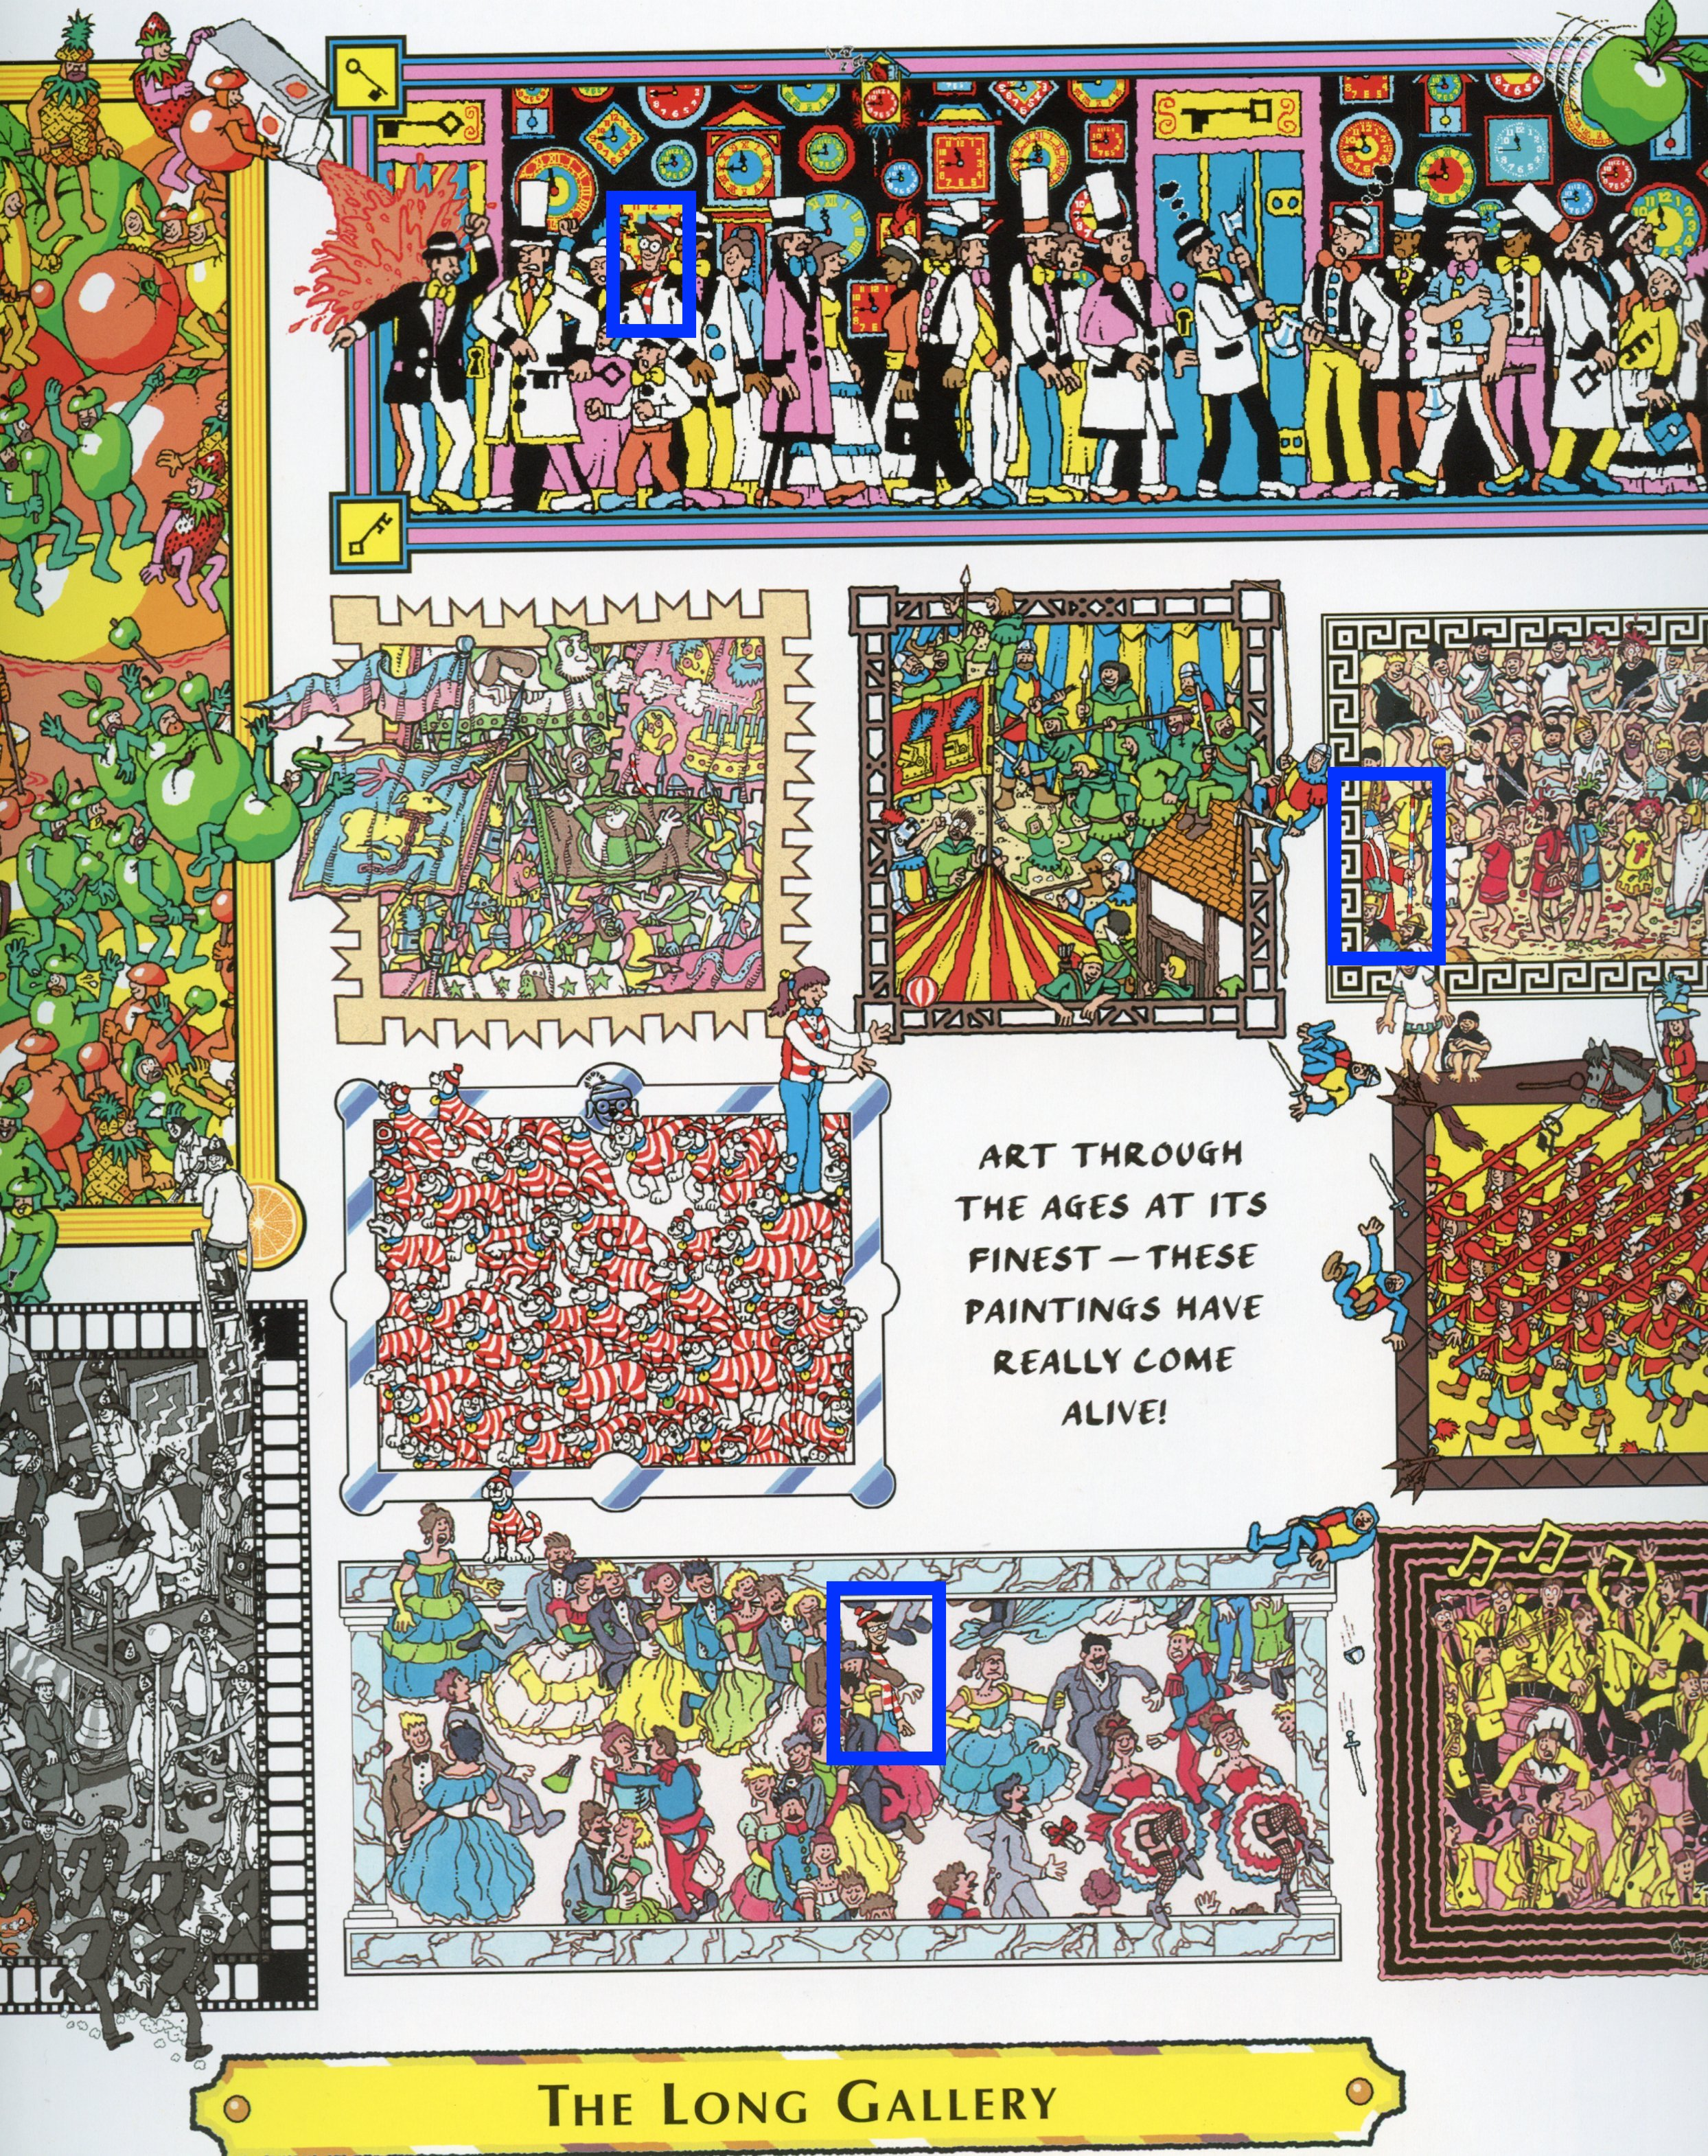waldo: (1321, 768, 1466, 976), (616, 196, 702, 345)
wenda: (828, 1582, 952, 1776)
white beard: (1340, 775, 1472, 980)
